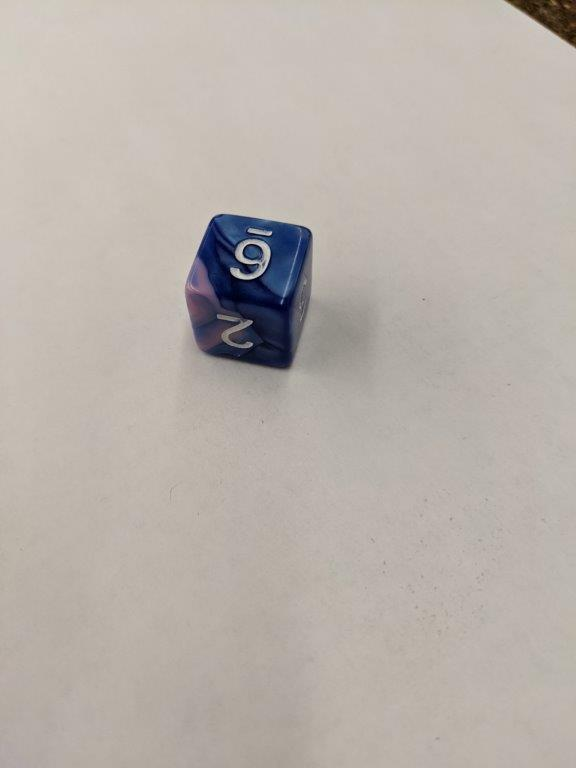d6-6: (184, 213, 312, 371)
